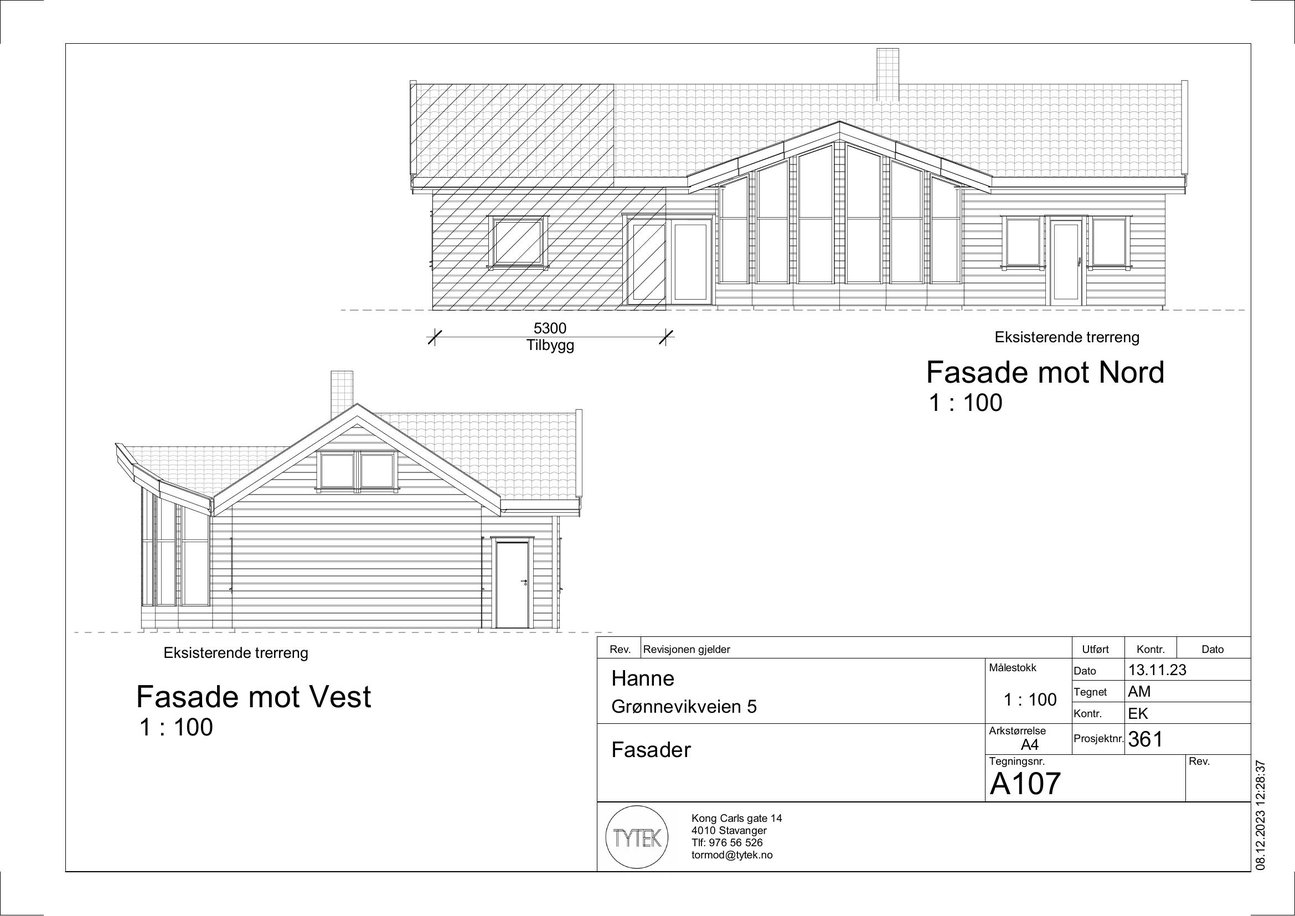fasade: (406, 45, 1194, 315), (113, 369, 586, 636)
